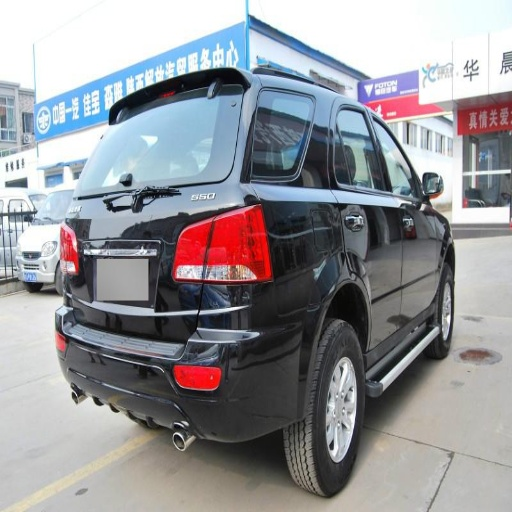back_bumper: (56, 284, 302, 441)
back_right_door: (302, 101, 401, 364), (251, 103, 284, 151)
trunk: (73, 184, 248, 340), (291, 228, 339, 290)
